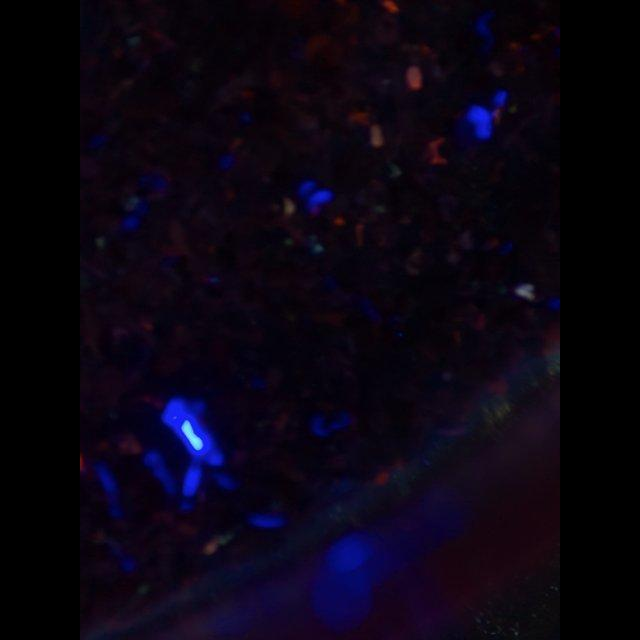microbeads: (516, 281, 534, 301)
